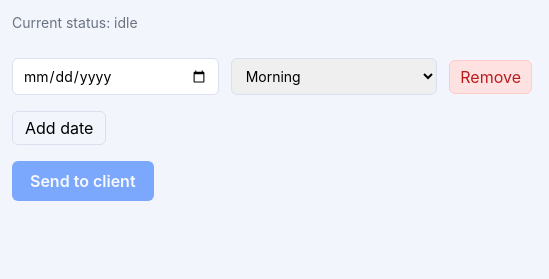
it: BookingForm › blocks submit on a past date with a validation error
Type "2020-01-01" into the date field named "date".
click(115, 77); type("2020-01-01")  # box [12,58,219,95]
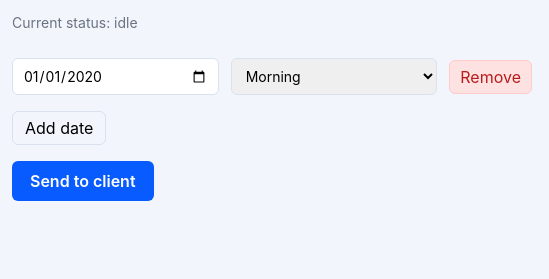
Select "Morning" in the dropdown named "window" at [334, 77], box [231,58,437,95]
expect the button "Send to client" is enabled: met
Click the button "Send to client".
click(83, 181)  # box [12,161,154,201]
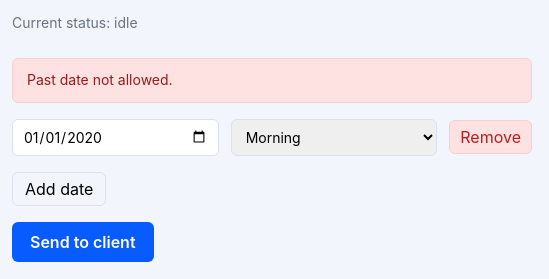
expect the text "Past date not allowed." is shown: met, box [12,58,532,103]
